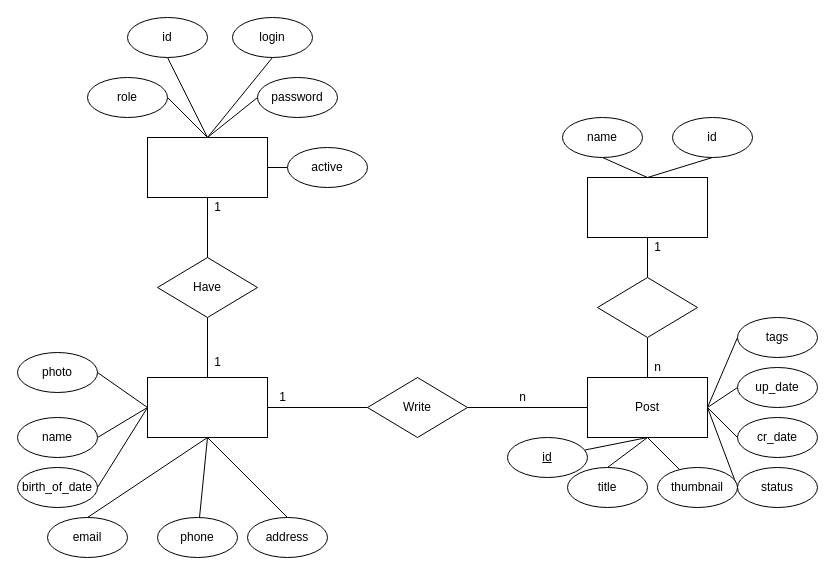
The diagram is 835 pixels wide and 575 high, and some of its shapes have lost their labels. Each missing label, with the centre of its shape:
"Account" belongs at [207,167].
"belong to" belongs at [647,307].
"Category" belongs at [647,207].
"User" belongs at [207,407].
